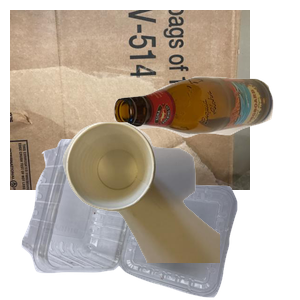cardboard: (10, 10, 250, 190)
glass: (111, 74, 300, 204)
plastic: (19, 139, 249, 300)
trash: (60, 120, 300, 300)
